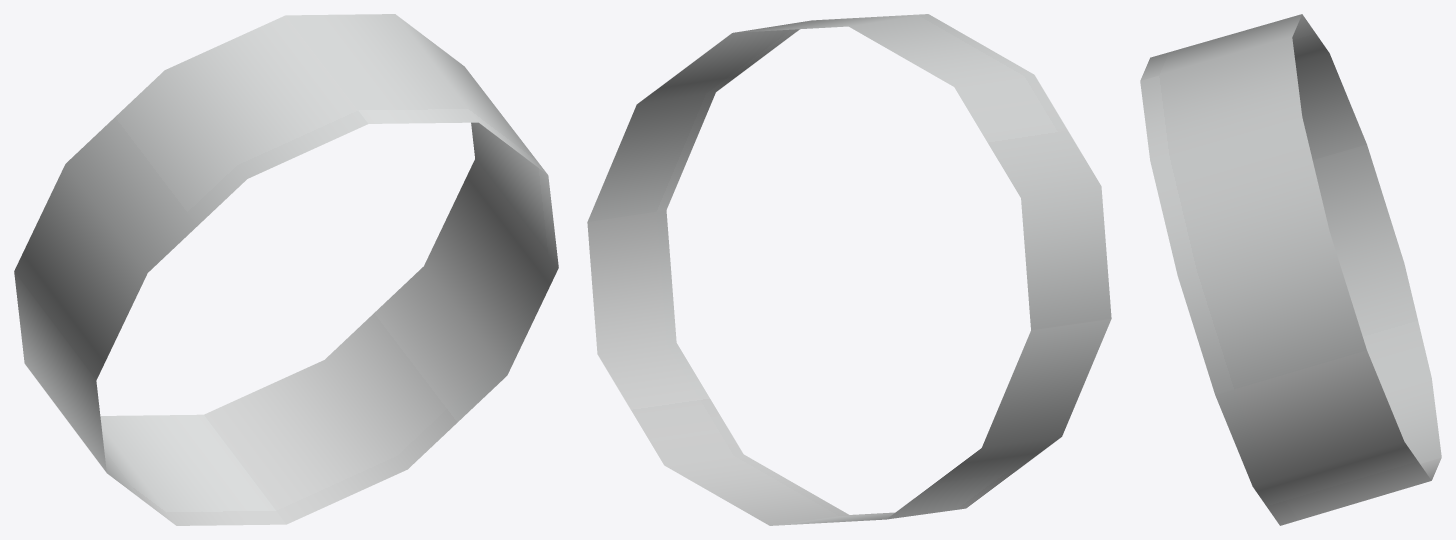
Rendered from luminairearm_truss12ftstraight_c2.obj.
The picture shows the model from 3 angles, left to right: view 1: azimuth 30°, elevation 25°; view 2: azimuth 150°, elevation 25°; view 3: azimuth 270°, elevation 25°; orthographic projection. The views are drawn at different scales.
Visible parts, largest first — view 1: luminairearm_truss12ftstraight_c2; view 2: luminairearm_truss12ftstraight_c2; view 3: luminairearm_truss12ftstraight_c2.
Boxes of the visible parts, x1,y1,x2,y2 form: luminairearm_truss12ftstraight_c2: (14, 14, 558, 525); luminairearm_truss12ftstraight_c2: (587, 14, 1111, 525); luminairearm_truss12ftstraight_c2: (1140, 14, 1441, 525).
Bounding box in the file's own units: 0.2157 × 0.2266 × 0.1331.
